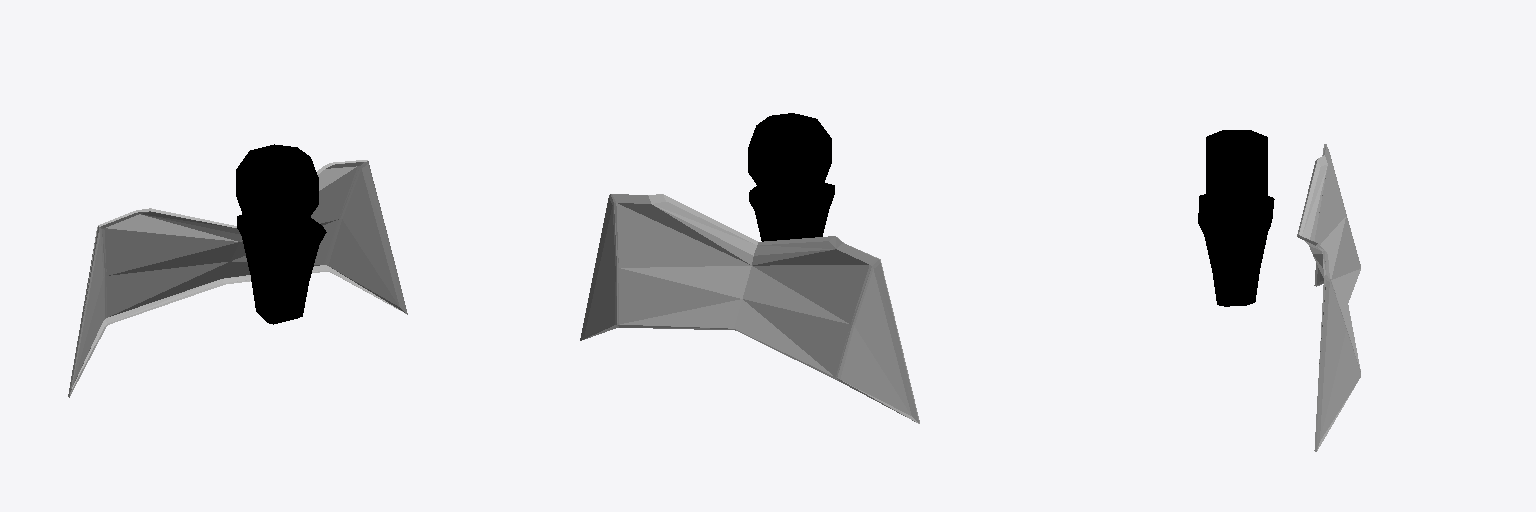
The model's file is Back_Down.obj.
3 renders of one model, left to right at view 1: azimuth 30°, elevation 25°; view 2: azimuth 150°, elevation 25°; view 3: azimuth 270°, elevation 25°, orthographic.
Parts seen in each view (by area): view 1: back_down, joint_backbone_2; view 2: back_down, joint_backbone_2; view 3: joint_backbone_2, back_down.
Boxes of the visible parts, box(x1,y1,x2,y2) form: back_down: box(68, 160, 407, 397); joint_backbone_2: box(236, 144, 326, 324); back_down: box(580, 194, 919, 423); joint_backbone_2: box(748, 113, 834, 241); joint_backbone_2: box(1198, 130, 1274, 306); back_down: box(1297, 144, 1360, 451).
Bounding box in the file's own units: 2.23 × 1.42 × 0.9262.